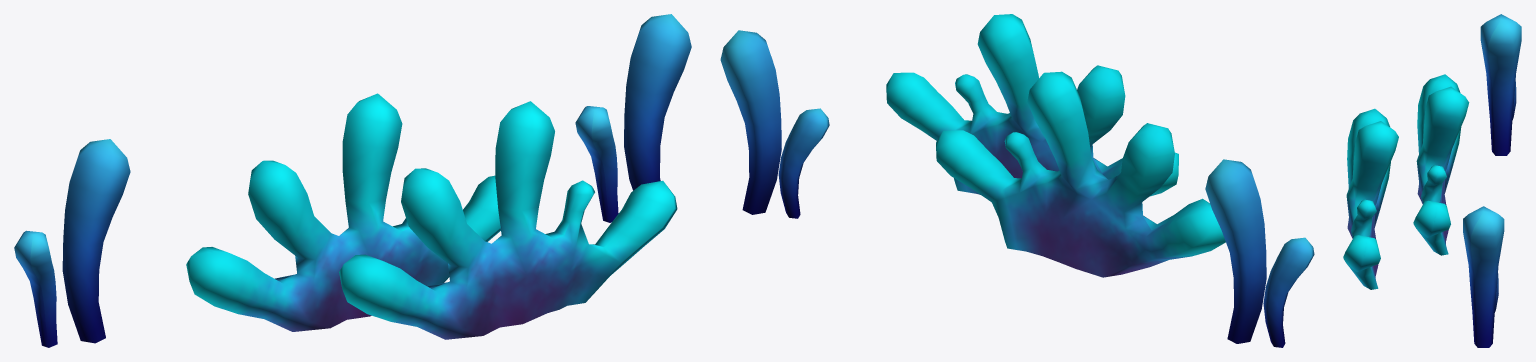
The model's file is Cartoon Seaweed_13-2-37.fbx.
3 views of the same model, side by side, from view 1: azimuth 30°, elevation 25°; view 2: azimuth 150°, elevation 25°; view 3: azimuth 270°, elevation 25° (orthographic). The views are drawn at different scales.
Visible parts, largest first — view 1: Cartoon Seaweed_13.2.37; view 2: Cartoon Seaweed_13.2.37; view 3: Cartoon Seaweed_13.2.37.
Part boxes in pixels (x1,y1,x2,y2): Cartoon Seaweed_13.2.37: (14, 14, 691, 347); Cartoon Seaweed_13.2.37: (720, 14, 1314, 347); Cartoon Seaweed_13.2.37: (1343, 14, 1521, 347).
Size of the model in its own units: 25.91 by 8.13 by 8.51.
1 material, 1 textured.
